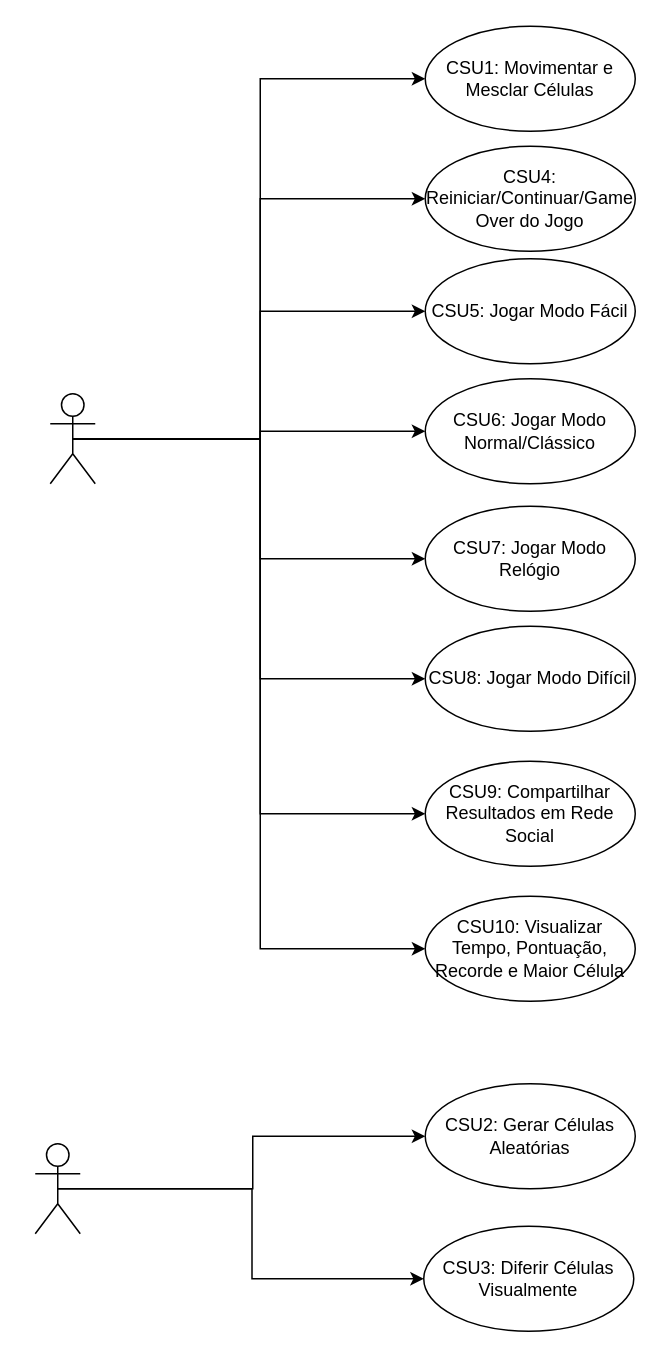
Image size: 662x1358. Some labels were removed from this diagram. Each missing label, with the centre of its shape:
"Jogador" belongs at point 72,438.
"Sistema" belongs at point 57,1188.
